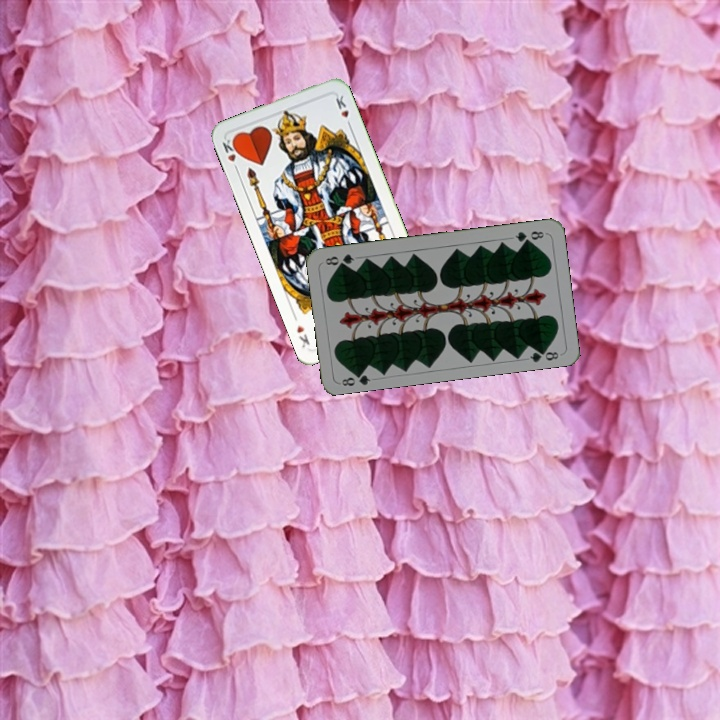G8: (336, 367, 373, 389), (511, 227, 546, 245)
HK: (218, 134, 241, 175)
